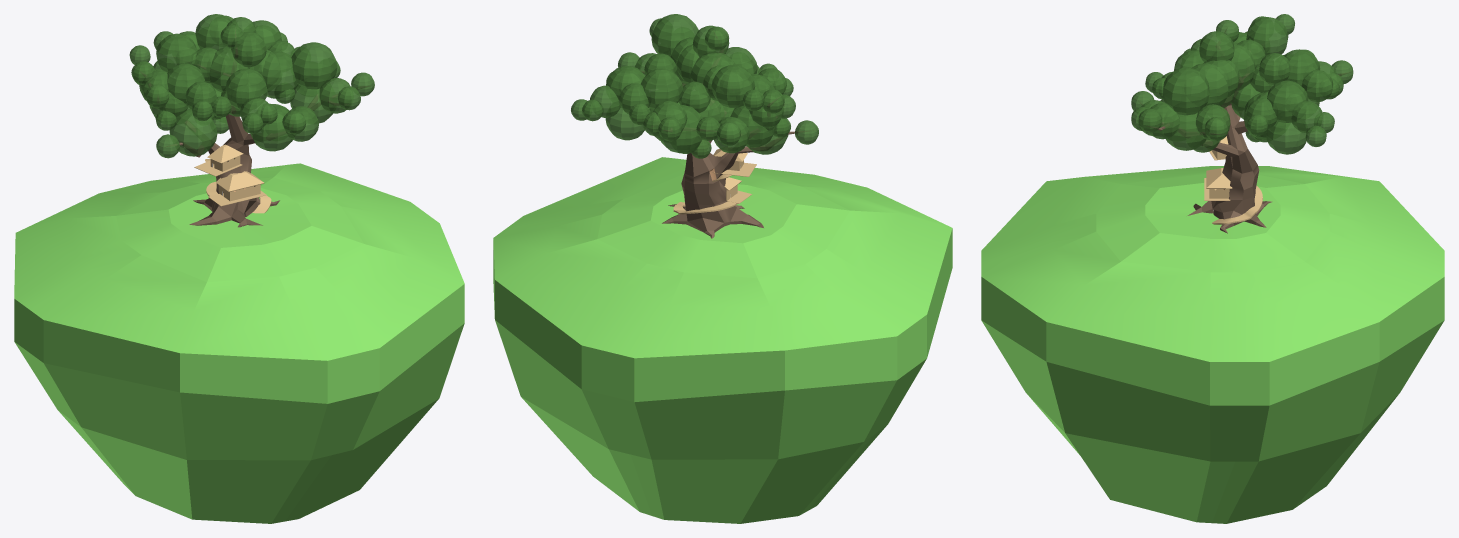
Rendered from Tree House White Box.fbx.
3 renders of one model, left to right at view 1: azimuth 30°, elevation 25°; view 2: azimuth 150°, elevation 25°; view 3: azimuth 270°, elevation 25°, orthographic.
Parts seen in each view (by area): view 1: tree:tree:pSphere34; view 2: tree:tree:pSphere34; view 3: tree:tree:pSphere34.
Boxes of the visible parts, box(x1,y1,x2,y2) form: tree:tree:pSphere34: box(14, 14, 464, 523); tree:tree:pSphere34: box(493, 14, 952, 523); tree:tree:pSphere34: box(981, 14, 1444, 523).
Bounding box in the file's own units: 1206 × 1298 × 1206.
